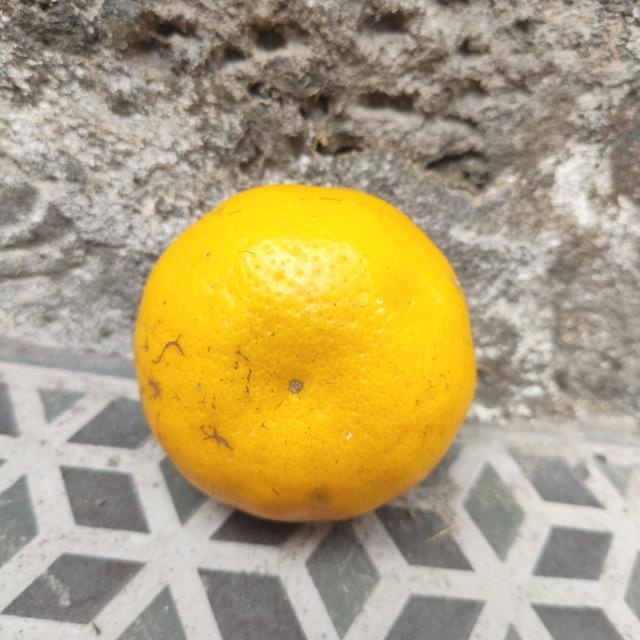agrume: (132, 183, 476, 523)
